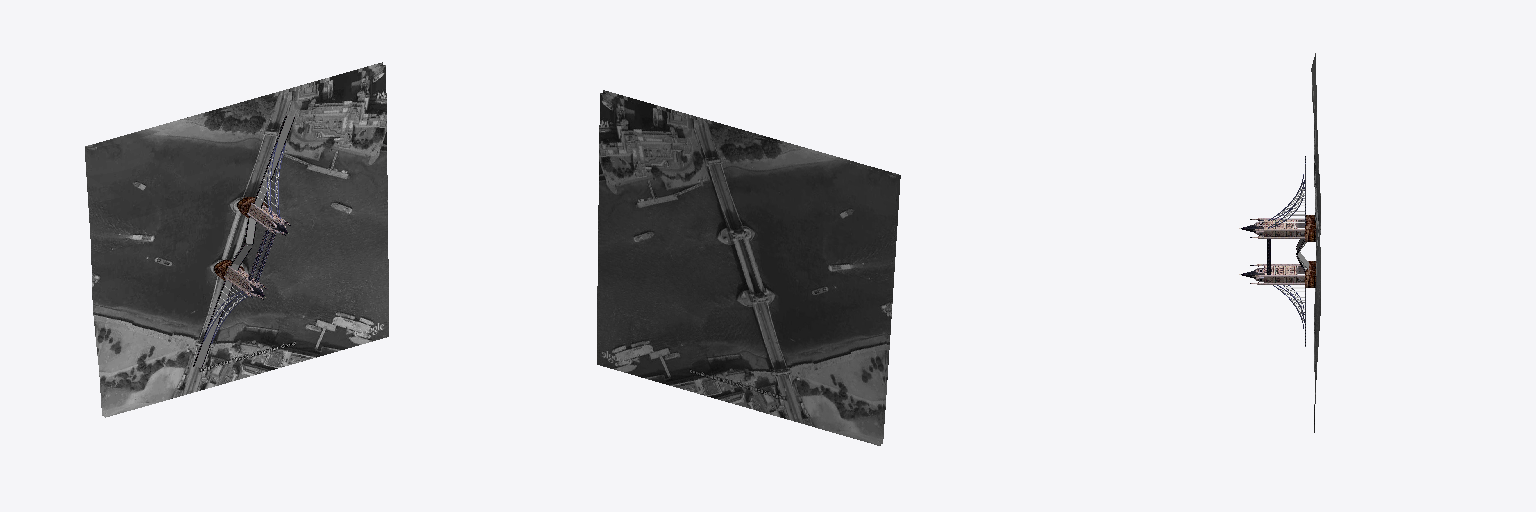
The picture shows the model from 3 angles: view 1: azimuth 30°, elevation 25°; view 2: azimuth 150°, elevation 25°; view 3: azimuth 270°, elevation 25°; orthographic projection.
Visible parts, largest first — view 1: Google Earth Terrain, Layer:CUBE, Google Earth Snapshot; view 2: Google Earth Snapshot, Google Earth Terrain; view 3: Layer:CUBE, Google Earth Terrain.
Boxes of the visible parts, box(x1,y1,x2,y2) form: Google Earth Terrain: box(87, 65, 388, 417); Layer:CUBE: box(193, 115, 294, 367); Google Earth Snapshot: box(85, 62, 382, 415); Google Earth Snapshot: box(597, 93, 897, 445); Google Earth Terrain: box(603, 90, 900, 443); Layer:CUBE: box(1239, 156, 1315, 346); Google Earth Terrain: box(1311, 53, 1320, 432).
Bounding box in the file's own units: 663500 × 600123 × 157947.
Materials: 16 (12 with a texture image).